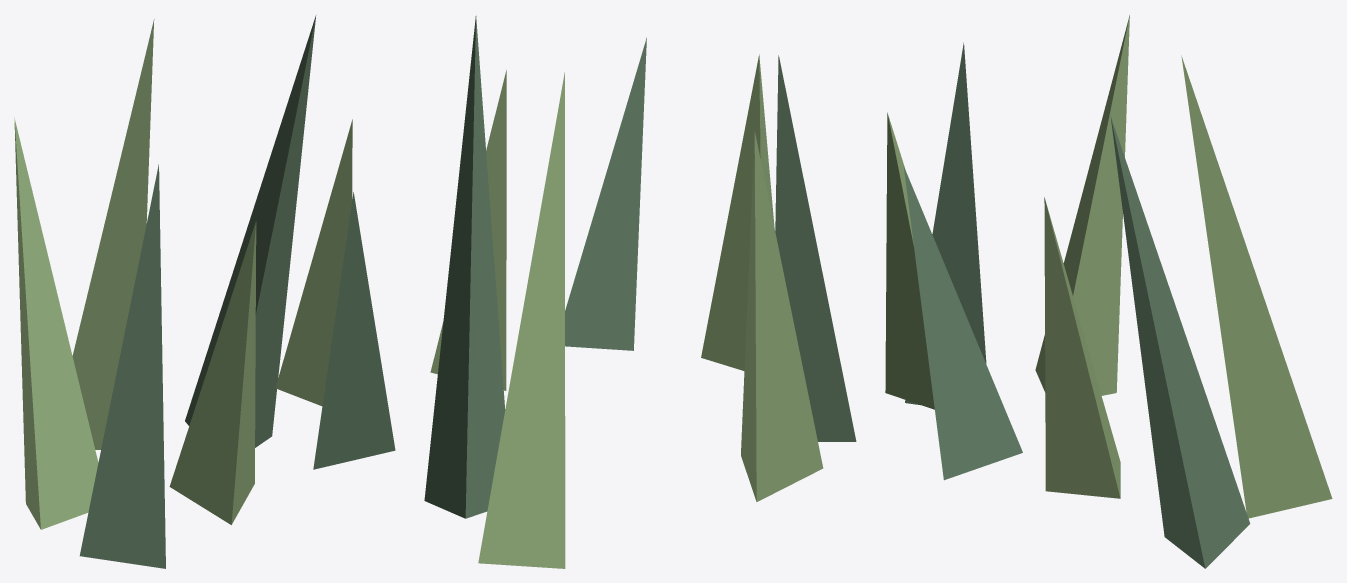
Rendered from trava.glb.
3 views of the same model, side by side, from view 1: azimuth 30°, elevation 25°; view 2: azimuth 150°, elevation 25°; view 3: azimuth 270°, elevation 25° (orthographic).
Parts seen in each view (by area): view 1: material_9ebc85, material_68866b; view 2: material_9ebc85, material_68866b; view 3: material_9ebc85, material_68866b.
Part boxes in pixels (x1,y1,x2,y2): material_9ebc85: [14, 19, 352, 529]; material_68866b: [79, 15, 395, 568]; material_9ebc85: [430, 54, 823, 568]; material_68866b: [424, 15, 856, 518]; material_9ebc85: [885, 15, 1332, 518]; material_68866b: [903, 42, 1250, 568].
Bounding box in the file's own units: 0.4392 × 0.5476 × 0.4872.
